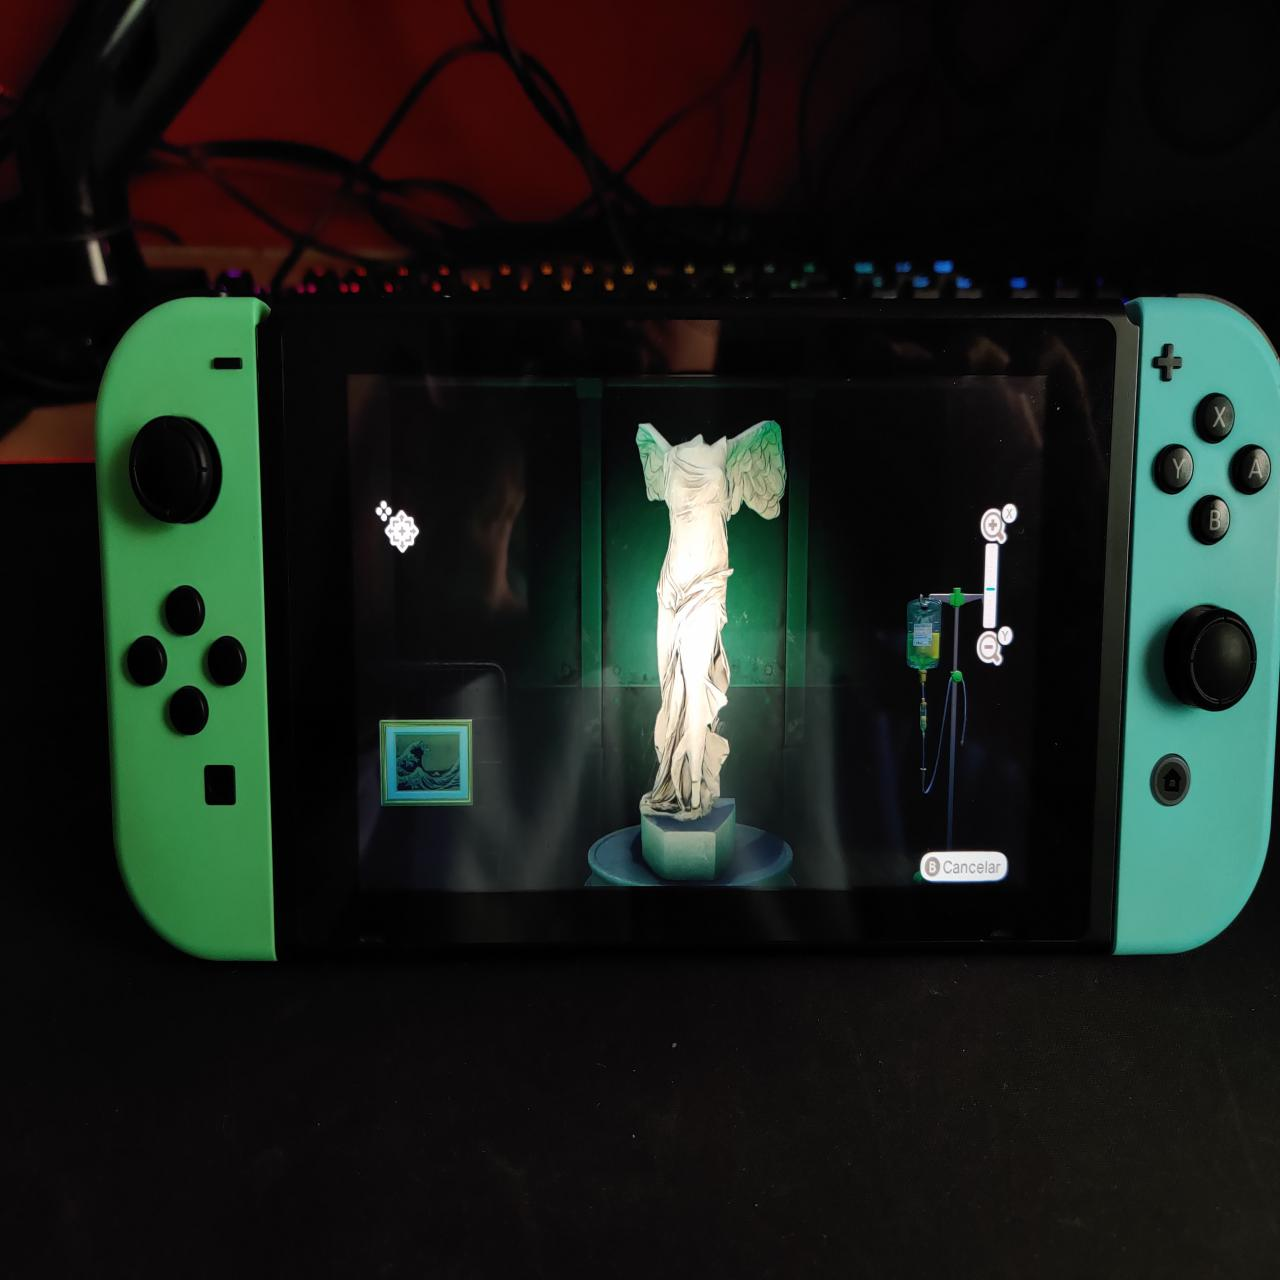Kanagawa: (394, 738, 465, 795)
SamothraceFake: (628, 411, 794, 828)
